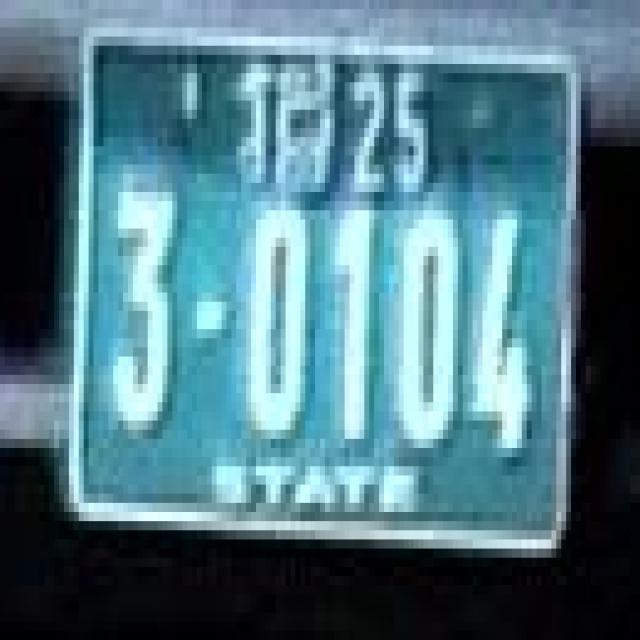State: (236, 55, 334, 196)
